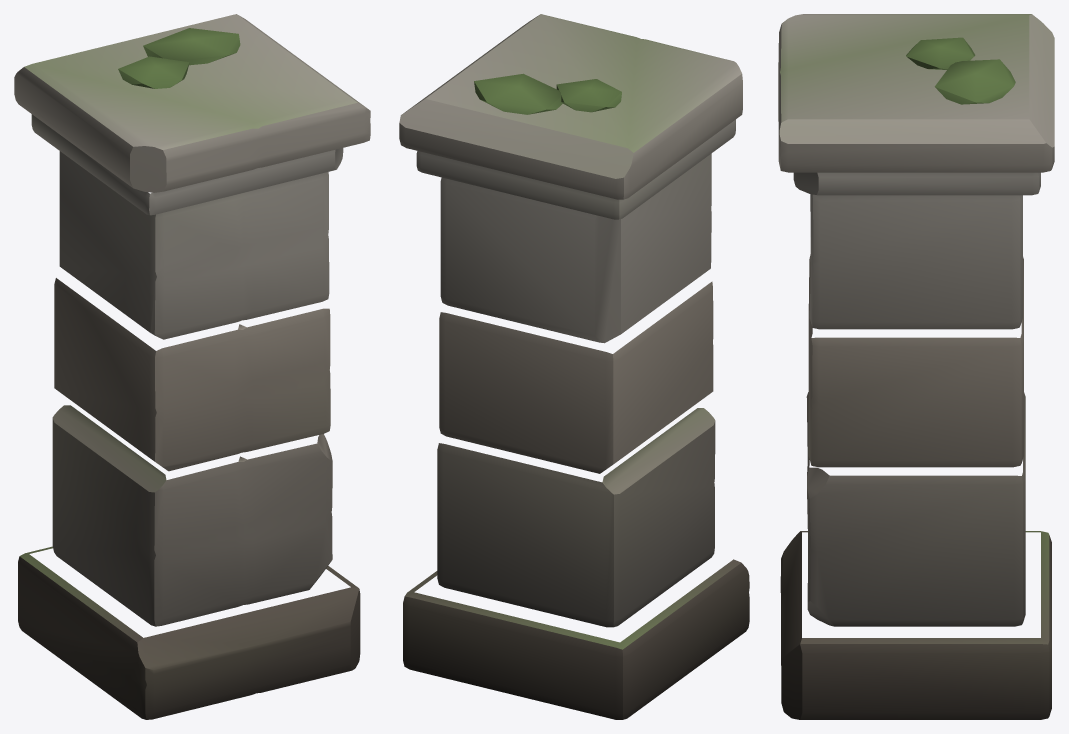
Rendered from ruins-pier-v2.glb.
3 views of the same model, side by side, from view 1: azimuth 30°, elevation 25°; view 2: azimuth 150°, elevation 25°; view 3: azimuth 270°, elevation 25° (orthographic). The views are drawn at different scales.
Visible parts, largest first — view 1: 0_ruins_pier; view 2: 0_ruins_pier; view 3: 0_ruins_pier.
Boxes of the visible parts, <box> form: 0_ruins_pier: <box>14,14,370,719</box>; 0_ruins_pier: <box>399,14,749,719</box>; 0_ruins_pier: <box>778,14,1054,719</box>.
Size of the model in its own units: 1 by 2.41 by 0.9957.
